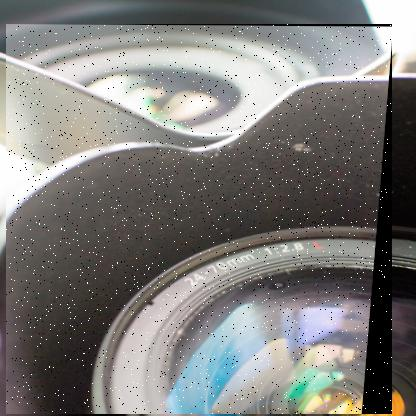Camera: (7, 25, 394, 416)
